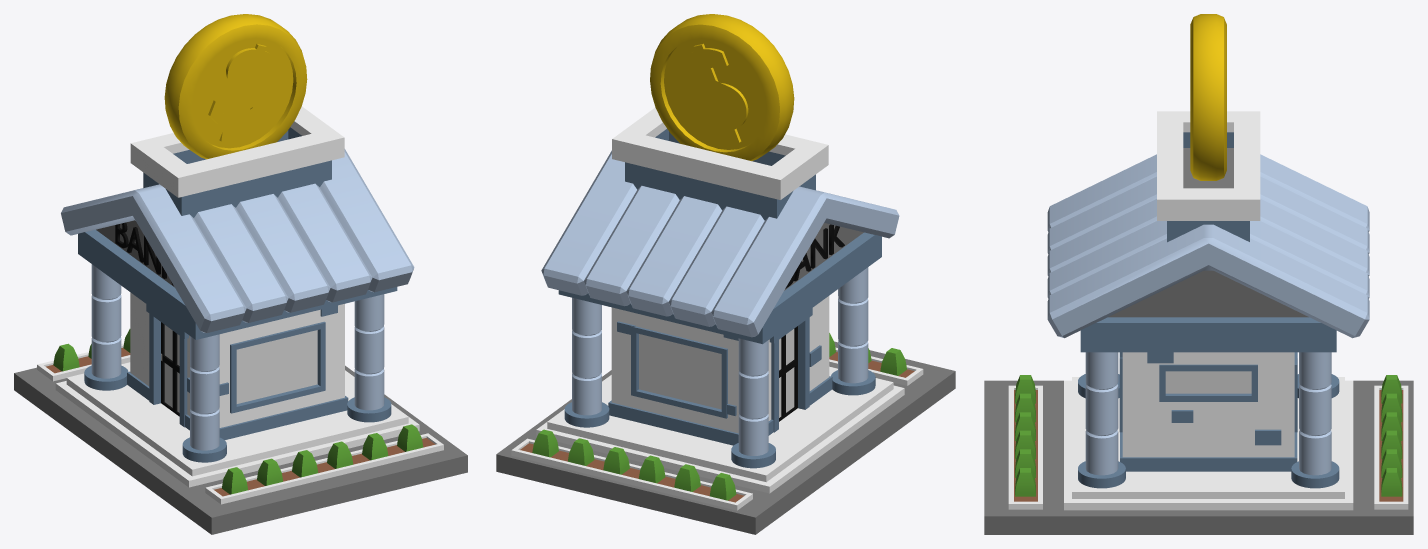
Rendered from bank.fbx.
3 views of the same model, side by side, from view 1: azimuth 30°, elevation 25°; view 2: azimuth 150°, elevation 25°; view 3: azimuth 270°, elevation 25° (orthographic). The views are drawn at different scales.
Parts seen in each view (by area): view 1: Cube.11061, Text.010, Cube.007, Plane.277, Plane.044, Cube.11063, Circle.042, Cube.11059, Plane.030, Plane.006, tree2.019, Text.015 (+3 smaller); view 2: Cube.11061, Text.010, Plane.277, Cube.007, Plane.044, Cube.11063, Circle.042, Cube.11059, Plane.029, tree2.019, Plane.006, Text.015 (+3 smaller); view 3: Cube.11061, Cube.007, Plane.277, Plane.044, Cube.11059, Cube.11063, Circle.042, Text.010, Cube.11062, tree2.019, Plane.006, Plane.028.
Boxes of the visible parts, left/top/right/bottom form: Cube.11061: left=61, top=149, right=414, bottom=333; Text.010: left=164, top=14, right=307, bottom=159; Cube.007: left=14, top=365, right=467, bottom=534; Plane.277: left=78, top=229, right=397, bottom=462; Plane.044: left=55, top=362, right=419, bottom=487; Cube.11063: left=130, top=106, right=344, bottom=217; Circle.042: left=91, top=264, right=384, bottom=450; Cube.11059: left=130, top=292, right=344, bottom=427; Plane.030: left=236, top=330, right=317, bottom=403; Plane.006: left=37, top=343, right=443, bottom=504; tree2.019: left=53, top=329, right=423, bottom=494; Text.015: left=115, top=222, right=173, bottom=285; Cube.11061: left=541, top=150, right=899, bottom=337; Text.010: left=650, top=14, right=794, bottom=161; Plane.277: left=558, top=232, right=881, bottom=468; Cube.007: left=496, top=341, right=955, bottom=534; Plane.044: left=536, top=366, right=904, bottom=493; Cube.11063: left=612, top=107, right=828, bottom=220; Circle.042: left=572, top=267, right=868, bottom=455; Cube.11059: left=611, top=296, right=829, bottom=433; Plane.029: left=639, top=334, right=721, bottom=409; tree2.019: left=532, top=333, right=906, bottom=500; Plane.006: left=511, top=347, right=923, bottom=510; Text.015: left=785, top=224, right=844, bottom=288; Cube.11061: left=1047, top=154, right=1369, bottom=338; Cube.007: left=984, top=380, right=1413, bottom=534; Plane.277: left=1078, top=317, right=1339, bottom=488; Plane.044: left=1064, top=377, right=1353, bottom=510; Cube.11059: left=1122, top=352, right=1294, bottom=457; Cube.11063: left=1157, top=111, right=1260, bottom=242; Circle.042: left=1085, top=352, right=1331, bottom=475; Text.010: left=1190, top=14, right=1226, bottom=180; Cube.11062: left=1108, top=270, right=1308, bottom=317; tree2.019: left=1015, top=375, right=1402, bottom=496; Plane.006: left=1008, top=385, right=1408, bottom=509; Plane.028: left=1165, top=371, right=1251, bottom=393.
Bounding box in the file's own units: 0.5991 × 0.9161 × 0.801.
